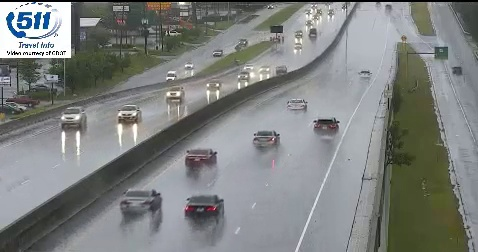car: (184, 194, 225, 219), (120, 189, 162, 213), (184, 149, 216, 167), (252, 130, 280, 149), (314, 118, 339, 135), (286, 99, 307, 111)
